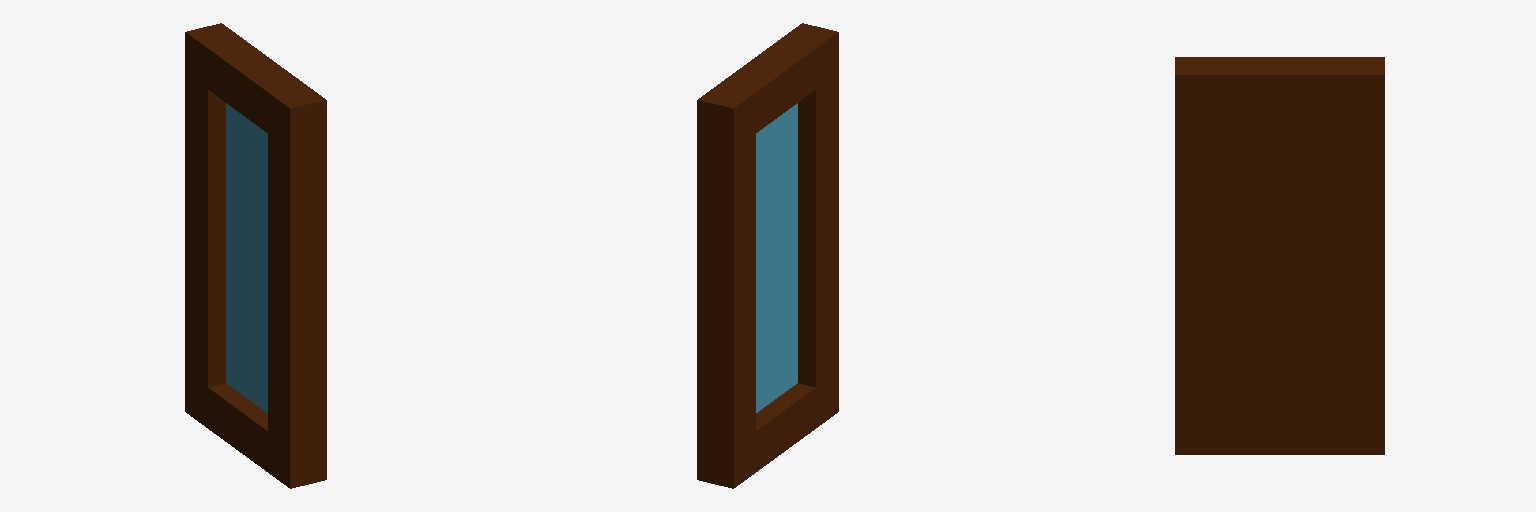
3 renders of one model, left to right at view 1: azimuth 30°, elevation 25°; view 2: azimuth 150°, elevation 25°; view 3: azimuth 270°, elevation 25°, orthographic.
Visible parts, largest first — view 1: G-__556239_G-__556239_Wood, G-__556239_G-__556239_Glass; view 2: G-__556239_G-__556239_Wood, G-__556239_G-__556239_Glass; view 3: G-__556239_G-__556239_Wood.
Boxes of the visible parts, x1=… form: G-__556239_G-__556239_Wood: x1=185, y1=23, x2=326, y2=488; G-__556239_G-__556239_Glass: x1=226, y1=103, x2=267, y2=412; G-__556239_G-__556239_Wood: x1=697, y1=23, x2=838, y2=488; G-__556239_G-__556239_Glass: x1=756, y1=103, x2=797, y2=412; G-__556239_G-__556239_Wood: x1=1175, y1=57, x2=1384, y2=454.
Bounding box in the file's own units: 0.05 × 0.5 × 0.25.